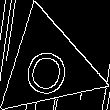O_N: (20, 35, 76, 96)
